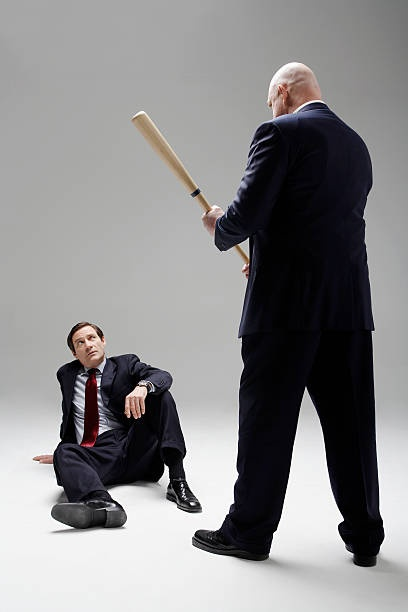bita: (127, 110, 247, 274)
